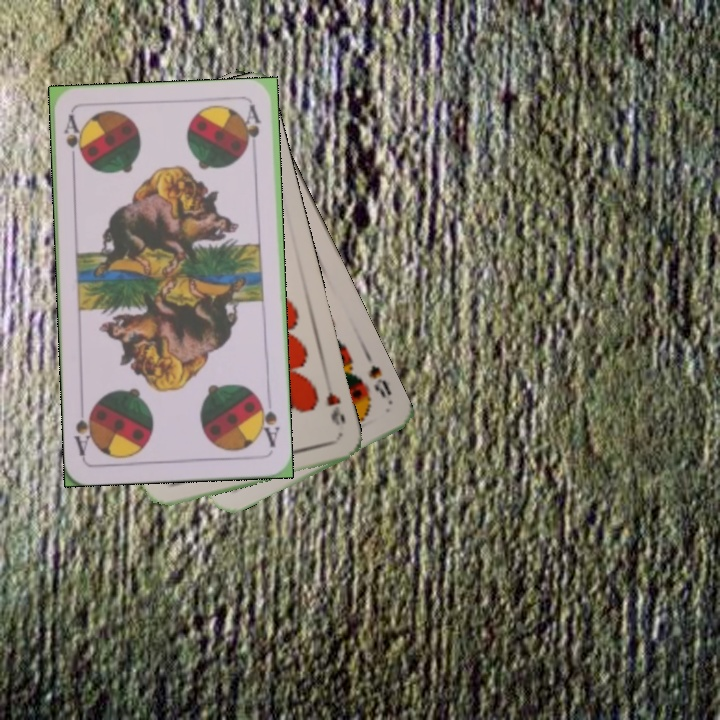H9: (322, 388, 348, 428)
S8: (364, 361, 395, 401)
SA: (254, 393, 283, 450), (59, 110, 86, 169)
